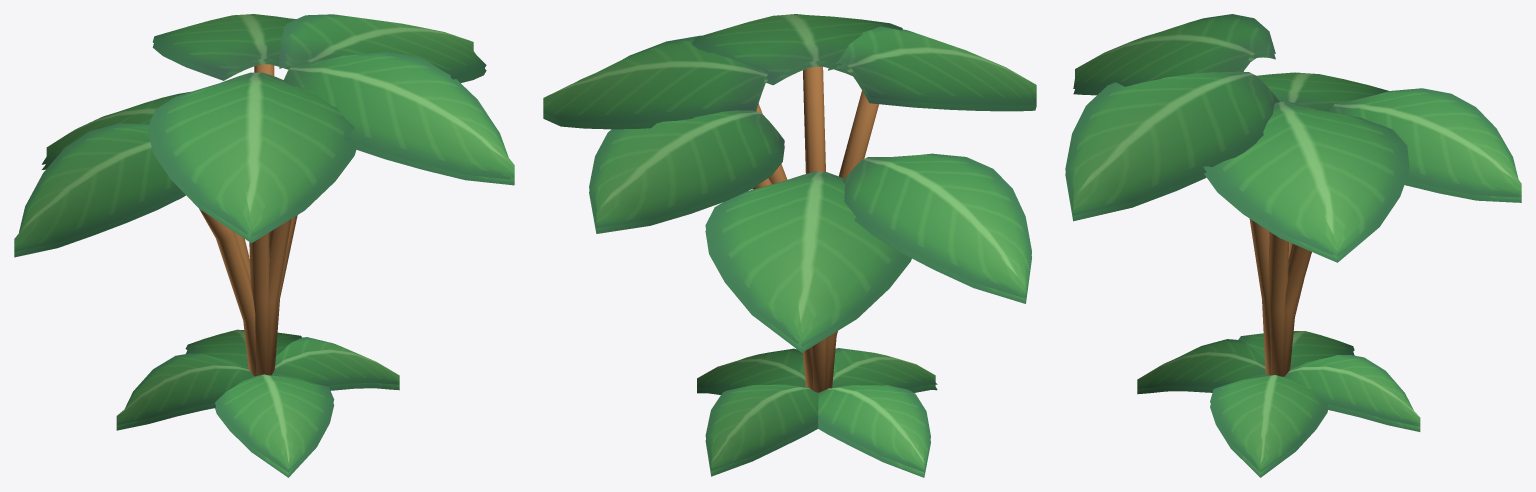
File: outskirts_plant.glb
The picture shows the model from 3 angles, left to right: view 1: azimuth 30°, elevation 25°; view 2: azimuth 150°, elevation 25°; view 3: azimuth 270°, elevation 25°; orthographic projection. The views are drawn at different scales.
Visible parts, largest first — view 1: outskirts_plant; view 2: outskirts_plant; view 3: outskirts_plant.
Boxes of the visible parts, <box> form: outskirts_plant: <box>14,14,514,477</box>; outskirts_plant: <box>543,14,1036,477</box>; outskirts_plant: <box>1065,14,1521,477</box>.
Size of the model in its own units: 1.08 by 0.793 by 0.922.
2 materials, 1 textured.
